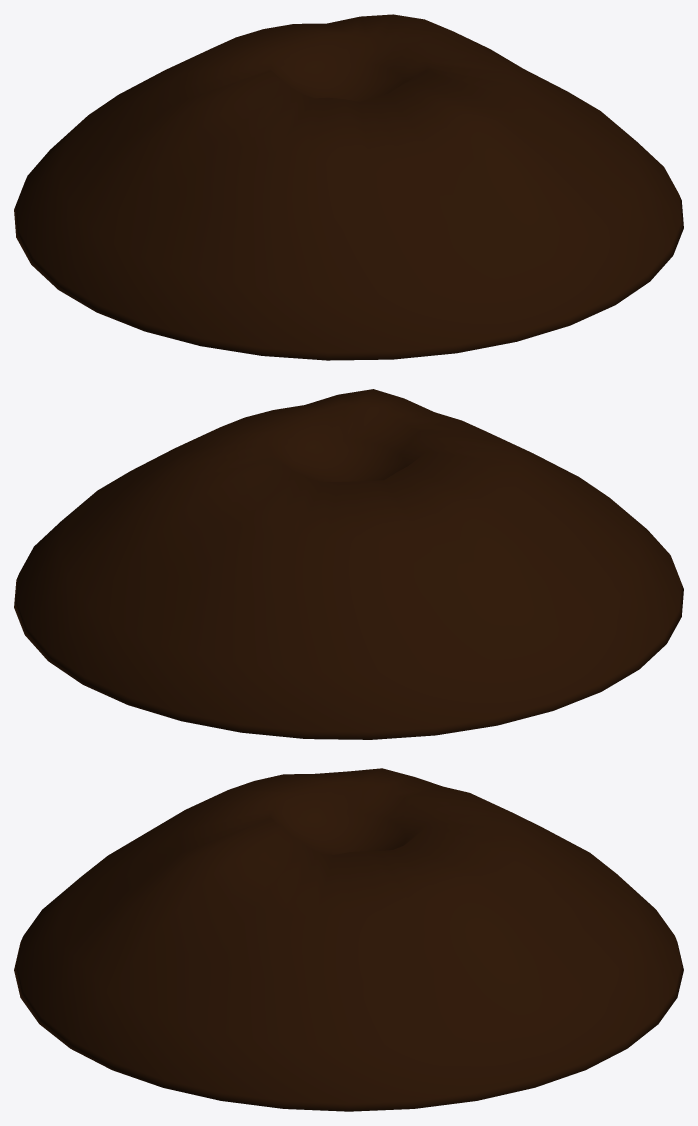
File: monte de terra.fbx
3 renders of one model, top to bottom at view 1: azimuth 30°, elevation 25°; view 2: azimuth 150°, elevation 25°; view 3: azimuth 270°, elevation 25°, orthographic.
Parts seen in each view (by area): view 1: Cylinder; view 2: Cylinder; view 3: Cylinder.
Part boxes in pixels (x1,y1,x2,y2): Cylinder: [14, 14, 683, 360]; Cylinder: [14, 389, 683, 739]; Cylinder: [14, 768, 683, 1111].
Bounding box in the file's own units: 196 × 52.57 × 196.
Materials: 1 (1 with a texture image).
